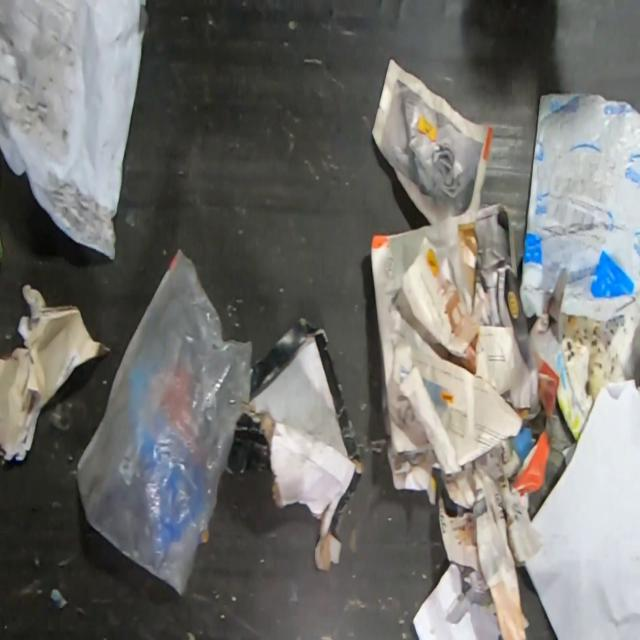cardboard: (225, 318, 366, 571)
soft_plastic: (75, 247, 254, 599), (518, 93, 640, 369)
